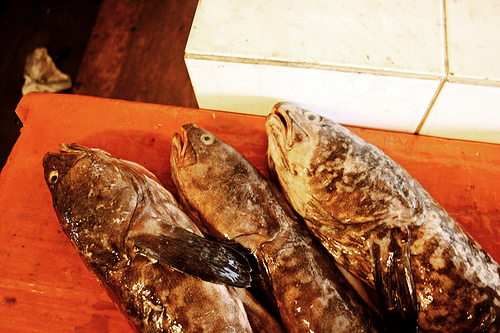fish: (265, 100, 499, 332), (41, 140, 283, 332), (168, 122, 369, 332)
